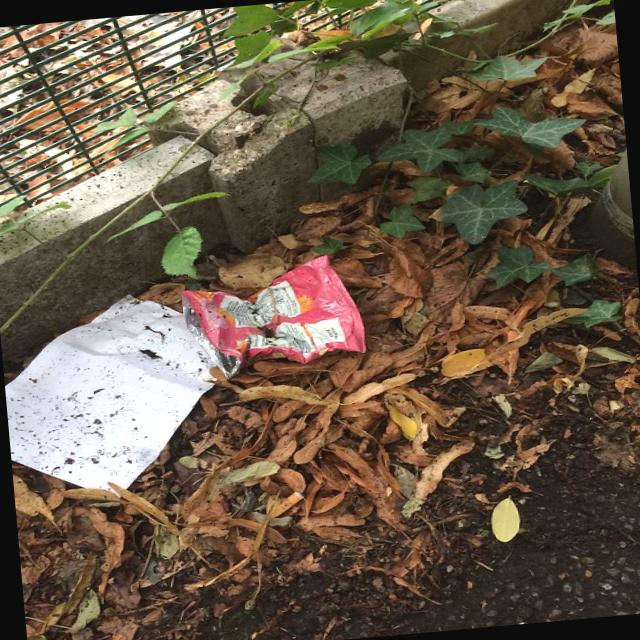Trash: (0, 285, 251, 501), (177, 253, 373, 380)
